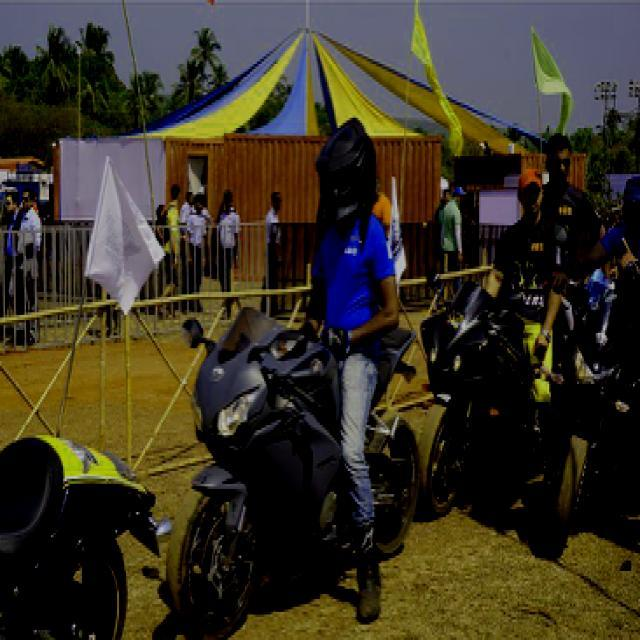Helmet: (312, 122, 380, 218)
